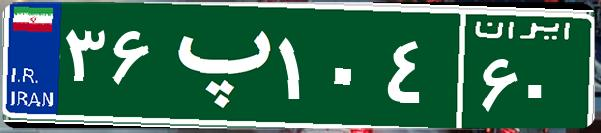0: (330, 28, 385, 110), (525, 38, 570, 115)
1: (273, 28, 330, 110)
3: (57, 26, 110, 107)
4: (385, 28, 445, 110)
6: (475, 38, 525, 113), (110, 28, 158, 105)
پ: (158, 15, 273, 115)
